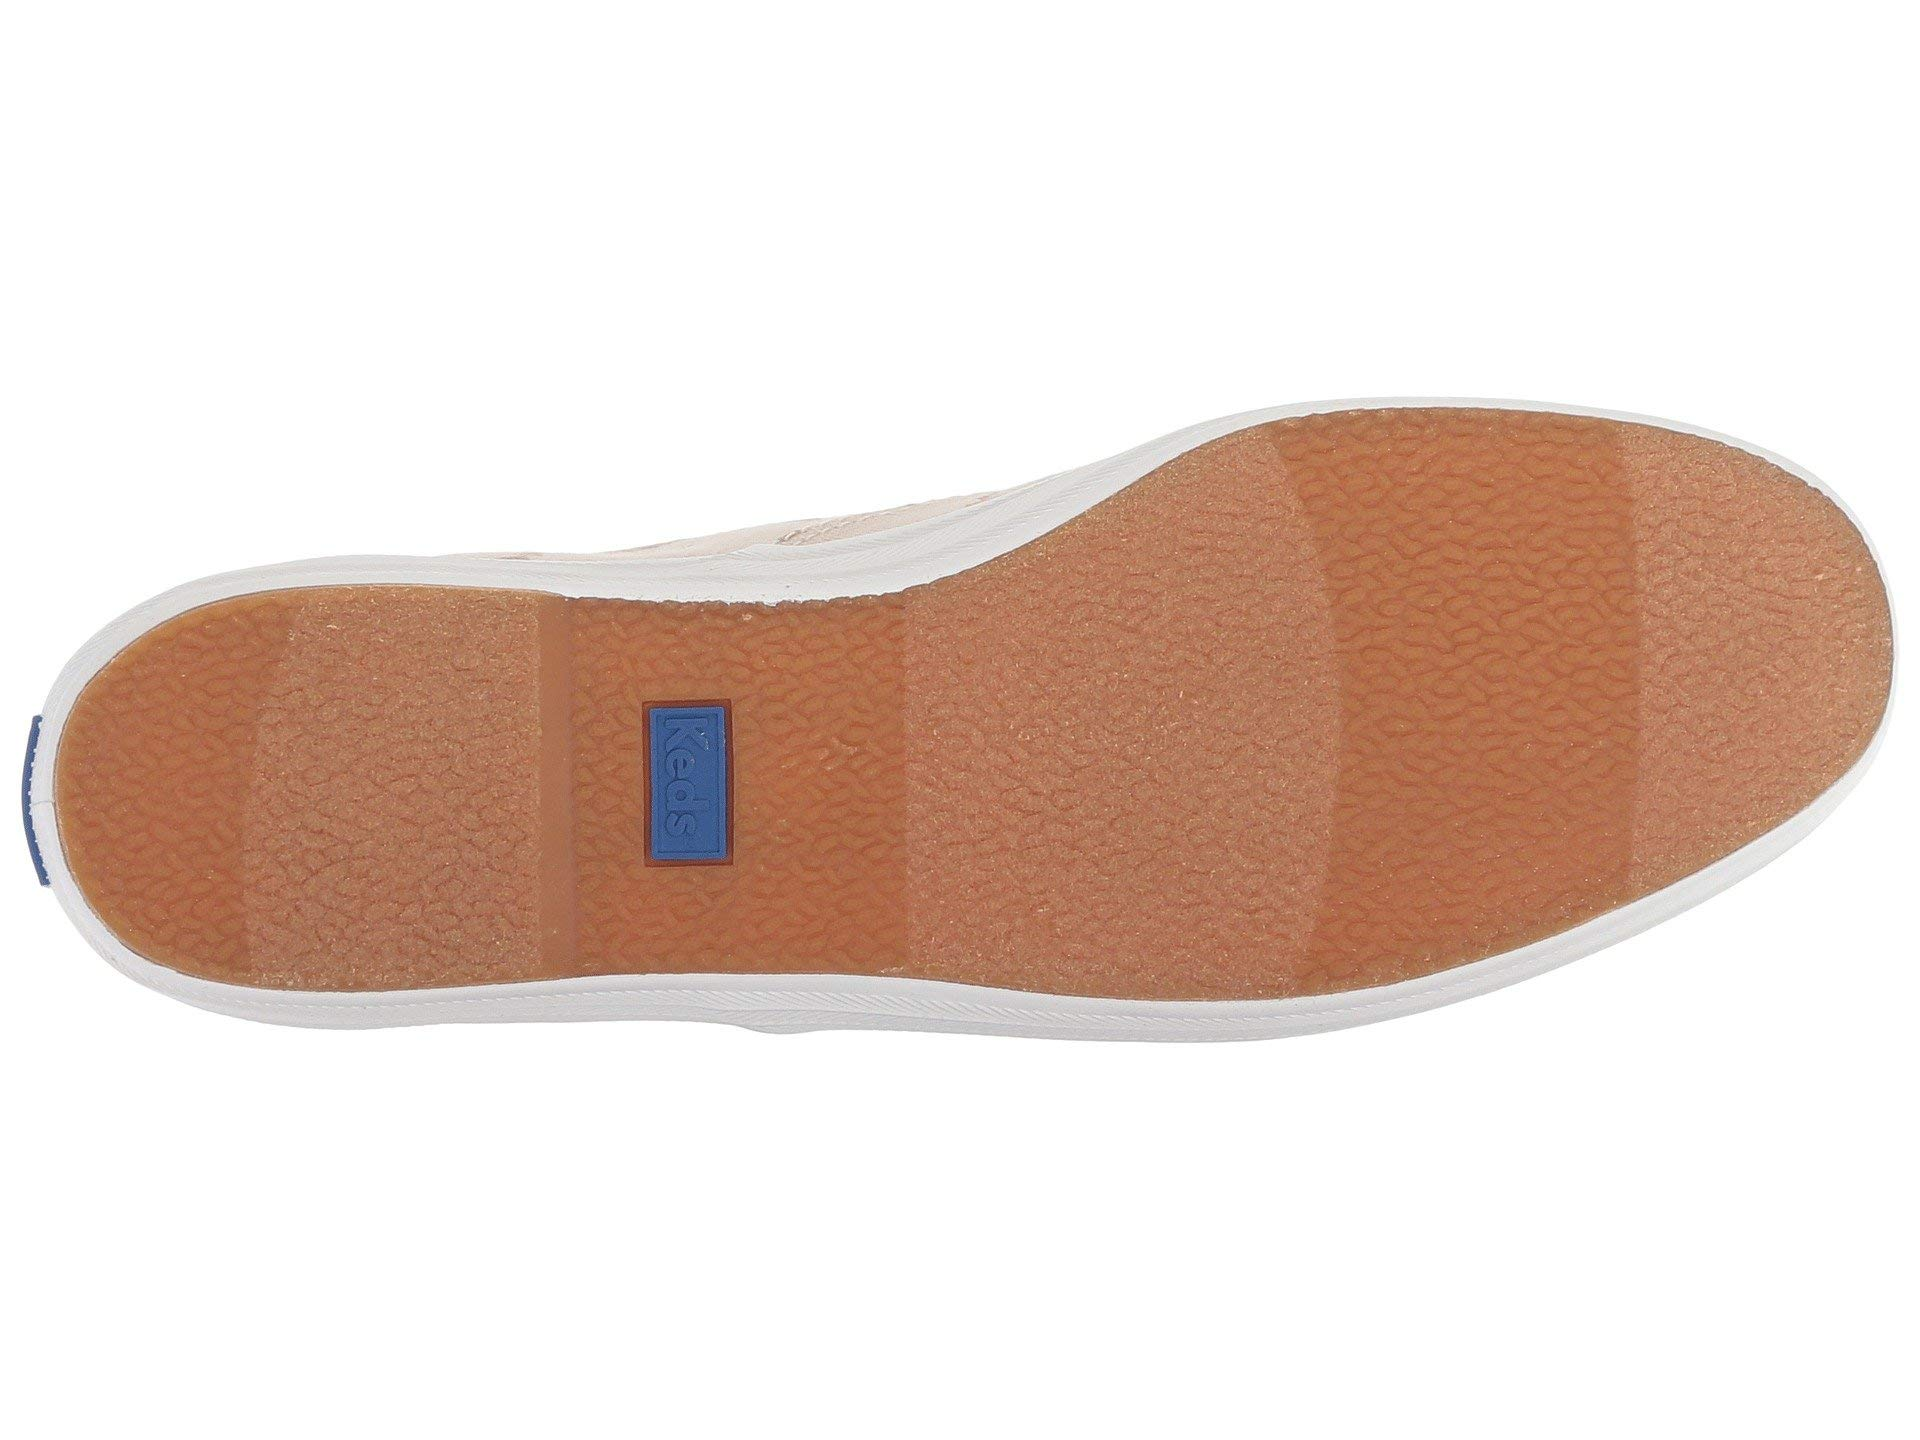circle: (618, 676, 777, 895)
quad: (618, 676, 777, 895)
text: (618, 676, 777, 895)
